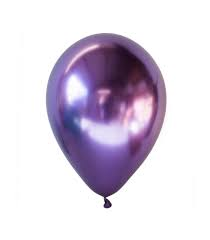Balloon: (46, 33, 166, 196)
